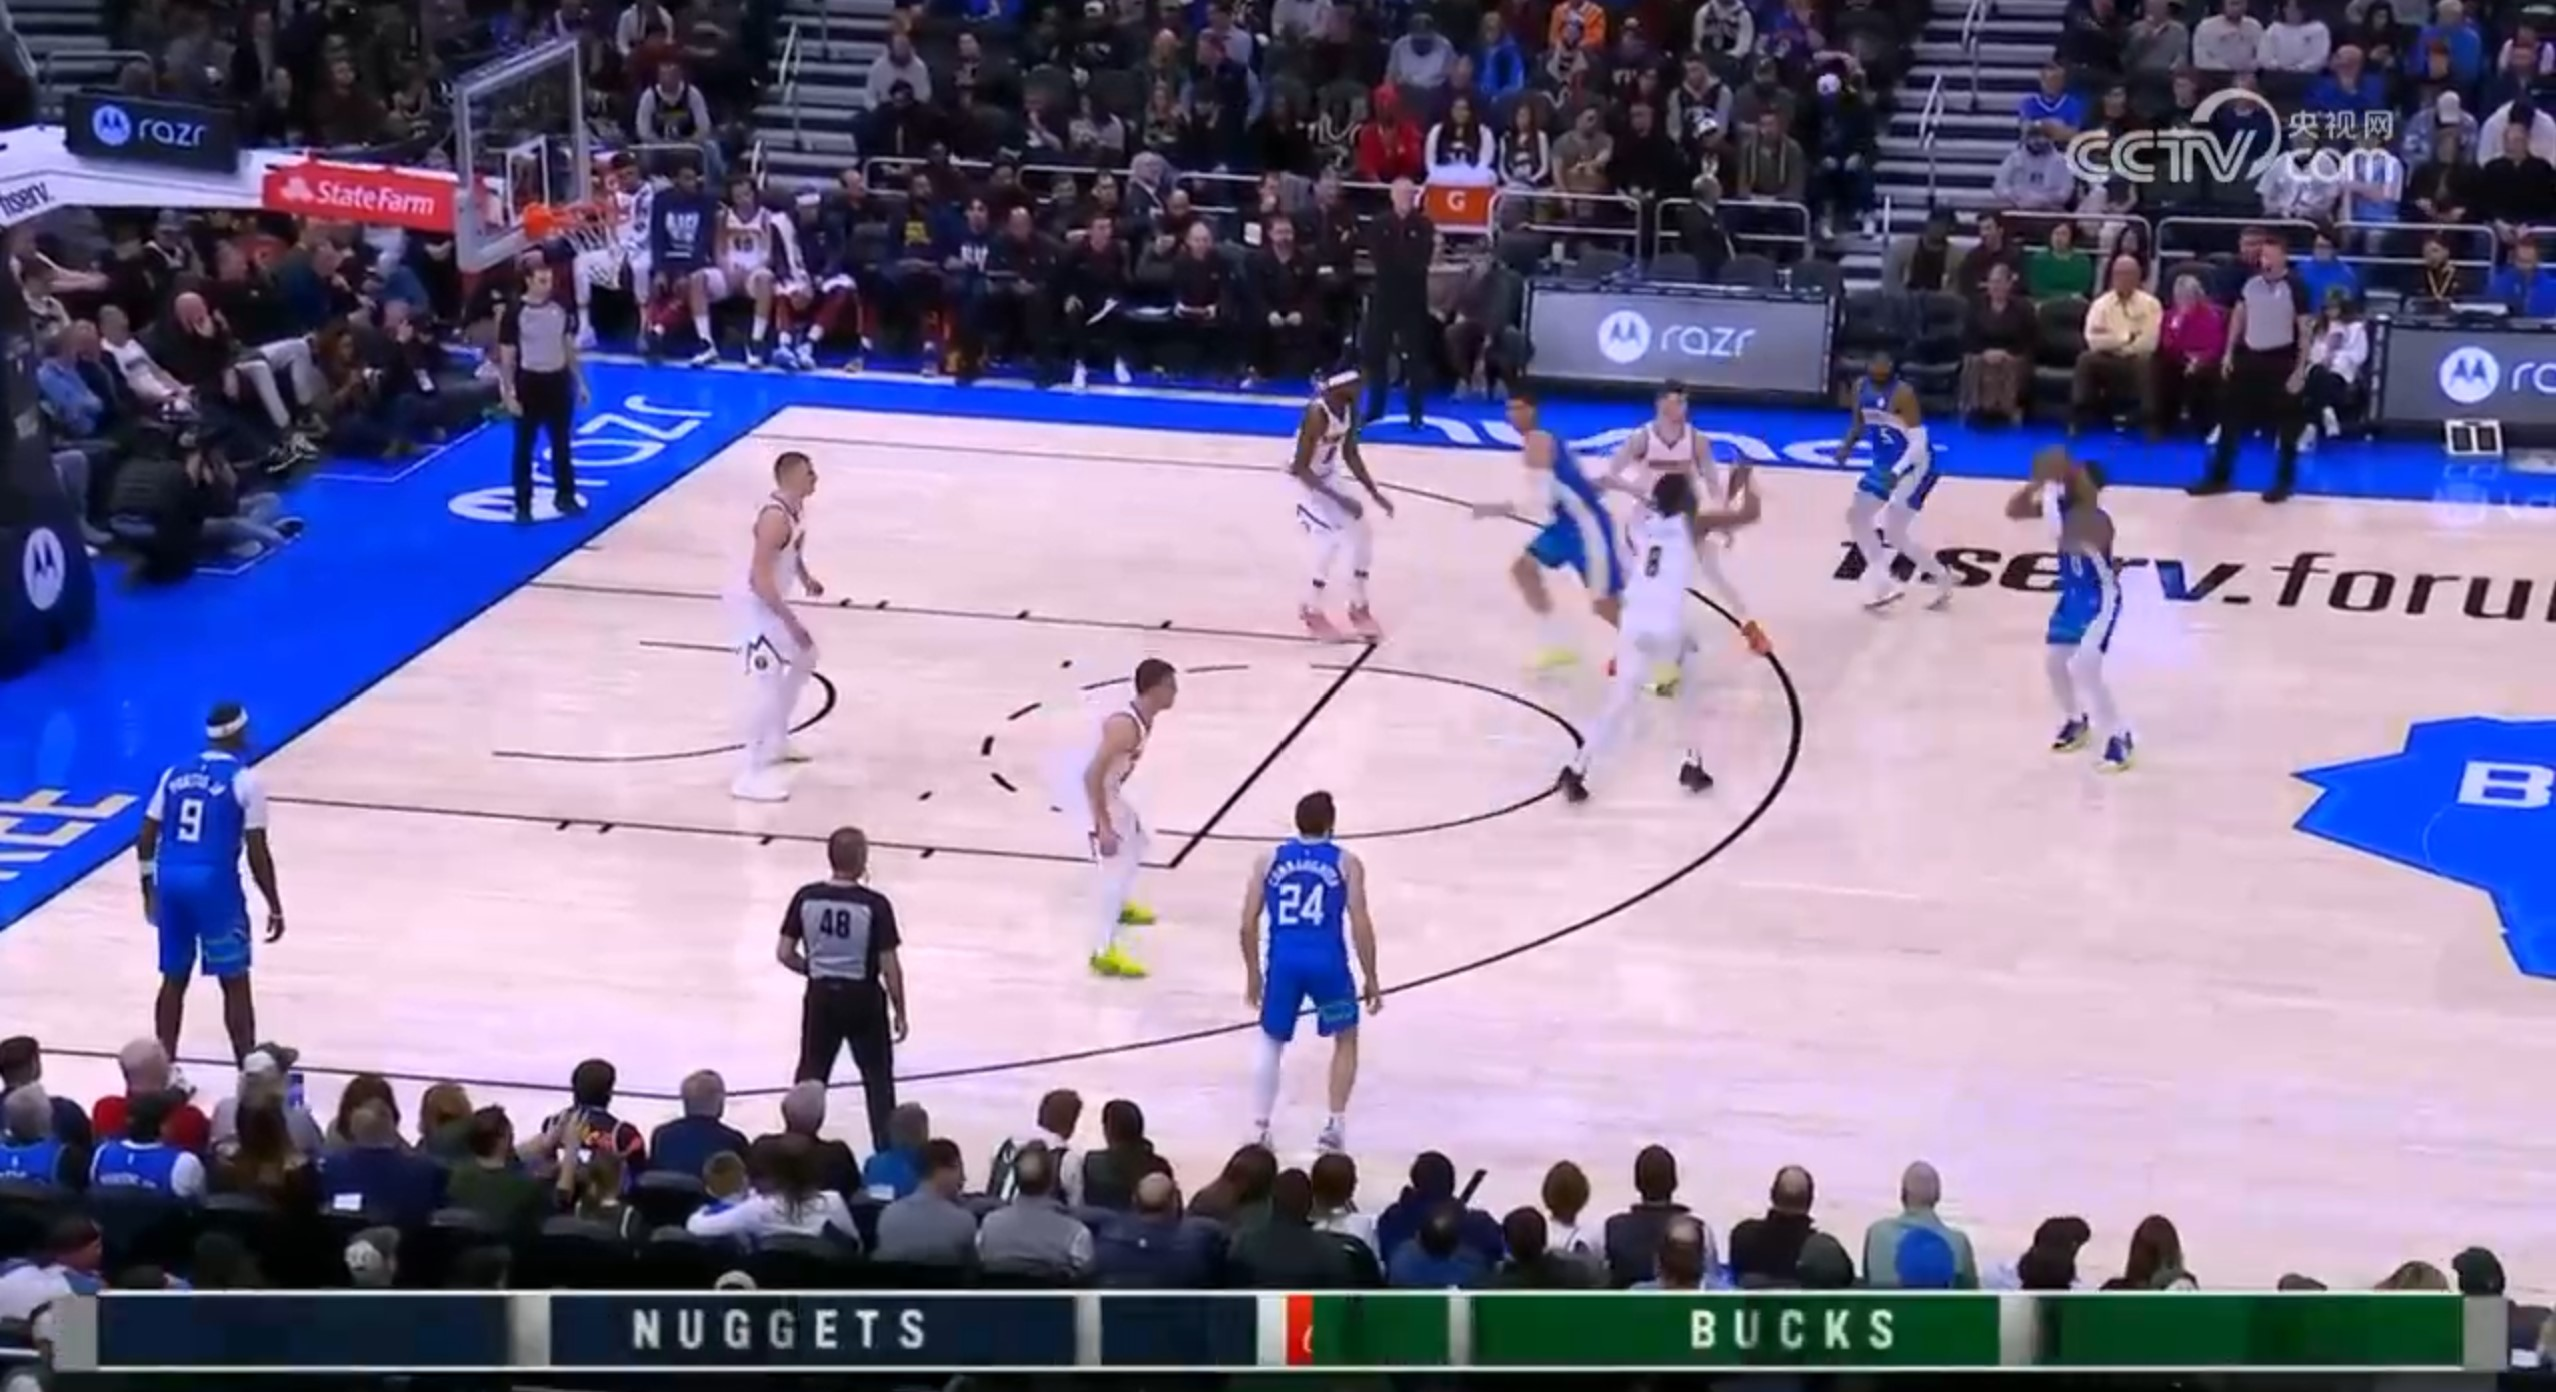Den: (1557, 466, 1759, 806), (1586, 381, 1774, 674), (1053, 658, 1179, 986), (723, 444, 823, 802), (1289, 362, 1390, 646)
Mil: (1473, 391, 1683, 694), (139, 703, 288, 1089), (1239, 790, 1385, 1159), (2006, 446, 2138, 771), (1833, 351, 1958, 609)
Ref: (778, 826, 909, 1174), (2184, 235, 2313, 497), (499, 264, 590, 521)
